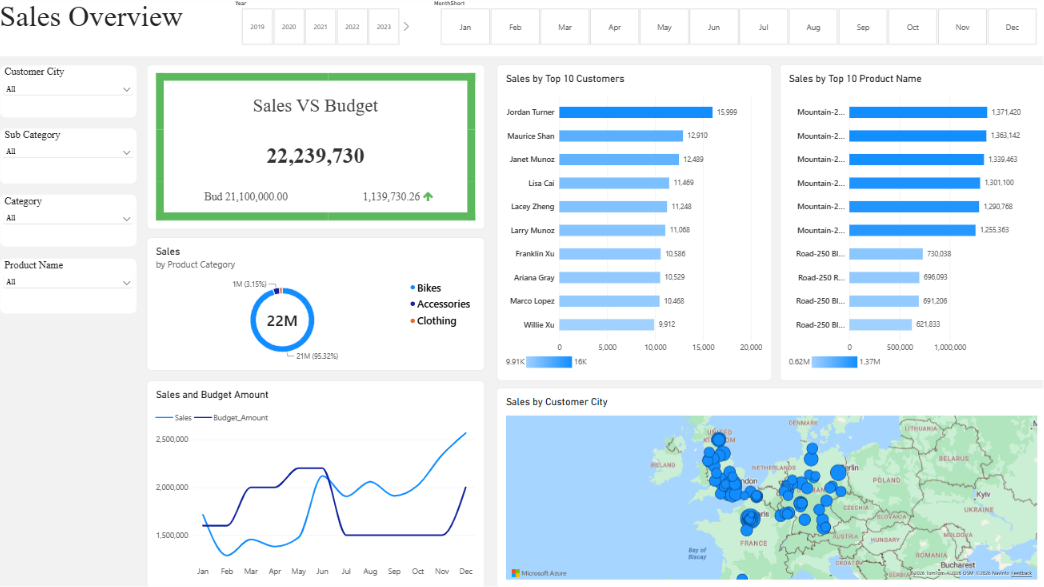

The page's visual inventory and layout, read from the dashboard file:
{"tool":"powerbi","page":{"name":"Sales Overview","canvas":[1920,1080],"ordinal":0},"visuals":[{"type":"textbox","box":[0,0,1920,104],"z":0},{"type":"slicer","fields":{"Values":["DIM_Customers.Customer City"]},"box":[0,121.1,251.3,95.4],"z":1000},{"type":"slicer","fields":{"Values":["DIM_Products.Sub Category"]},"box":[0,236.6,251.3,100.9],"z":2000},{"type":"slicer","title":"Category","fields":{"Values":["DIM_Products.Product Category"]},"box":[0,357.7,251.3,95.4],"z":3000},{"type":"slicer","fields":{"Values":["DIM_Products.Product Name"]},"box":[0,475.1,251.3,100.9],"z":4000},{"type":"slicer","fields":{"Values":["DIM_Calendar.Year"]},"box":[424,0,328,84],"z":5000},{"type":"slicer","fields":{"Values":["DIM_Calendar.MonthShort"]},"box":[788.7,0,1132,84],"z":6000},{"type":"BBED0A4D4D8D44CE93CF2DAFADEE466C","fields":{"actual":["Key Measures.Sales"],"target2":["Key Measures.Sales - Budget"],"target1":["Key Measures.Budget_Amount"]},"box":[269.6,119.2,620,302.7],"z":7000},{"type":"donutChart","fields":{"Category":["DIM_Products.Product Category"],"Y":["Key Measures.Sales"]},"box":[269.6,436.6,620,244],"z":7001},{"type":"lineChart","title":"Sales and Budget Amount","fields":{"Category":["DIM_Calendar.MonthShort"],"Y":["Key Measures.Sales","Key Measures.Budget_Amount"]},"box":[269.6,698.8,620,381.5],"z":7002},{"type":"barChart","title":"Sales by Top 10 Customers","fields":{"Category":["DIM_Customers.Full Name"],"Y":["Key Measures.Sales"]},"box":[911.6,119.2,504.4,579.6],"z":7003},{"type":"barChart","title":"Sales by Top 10 Product Name","fields":{"Category":["DIM_Products.Product Name"],"Y":["Key Measures.Sales"]},"box":[1430.7,119.2,489.7,579.6],"z":7004},{"type":"azureMap","fields":{"Category":["DIM_Customers.Customer City"],"Size":["Key Measures.Sales"]},"box":[911.6,711.7,1008.8,368.7],"z":7005}]}

Visuals, with their boxes in screenshot pixels (x1, y1, x2, y2), scaled from the page's 1920x1080 canvas onto the 1044x587 screenshot:
textbox: (left=0, top=0, right=1043, bottom=57)
slicer - DIM_Customers.Customer City: (left=0, top=66, right=137, bottom=118)
slicer - DIM_Products.Sub Category: (left=0, top=129, right=137, bottom=183)
"Category" slicer: (left=0, top=194, right=137, bottom=246)
slicer - DIM_Products.Product Name: (left=0, top=258, right=137, bottom=313)
slicer - DIM_Calendar.Year: (left=231, top=0, right=409, bottom=46)
slicer - DIM_Calendar.MonthShort: (left=429, top=0, right=1043, bottom=46)
BBED0A4D4D8D44CE93CF2DAFADEE466C - Key Measures.Sales x Key Measures.Sales - Budget: (left=147, top=65, right=484, bottom=229)
donutChart - DIM_Products.Product Category x Key Measures.Sales: (left=147, top=237, right=484, bottom=370)
"Sales and Budget Amount" lineChart: (left=147, top=380, right=484, bottom=586)
"Sales by Top 10 Customers" barChart: (left=496, top=65, right=770, bottom=380)
"Sales by Top 10 Product Name" barChart: (left=778, top=65, right=1043, bottom=380)
azureMap - DIM_Customers.Customer City x Key Measures.Sales: (left=496, top=387, right=1043, bottom=586)
